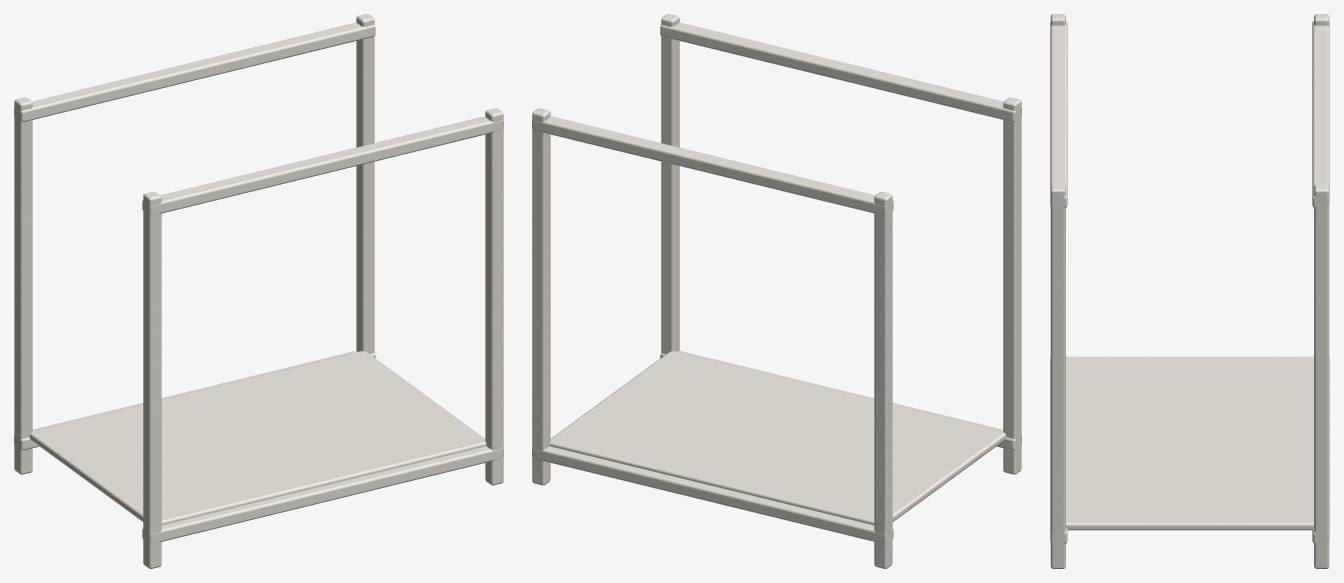
File: enhet-mobile.glb
3 views of the same model, side by side, from view 1: azimuth 30°, elevation 25°; view 2: azimuth 150°, elevation 25°; view 3: azimuth 270°, elevation 25° (orthographic). The views are drawn at different scales.
Parts seen in each view (by area): view 1: ENHET Washbasin frame; view 2: ENHET Washbasin frame; view 3: ENHET Washbasin frame.
Part boxes in pixels (x1,y1,x2,y2): ENHET Washbasin frame: (14, 14, 503, 568); ENHET Washbasin frame: (532, 14, 1021, 568); ENHET Washbasin frame: (1050, 14, 1329, 568).
Bounding box in the file's own units: 0.6 × 0.6 × 0.4.
1 material, 1 textured.
